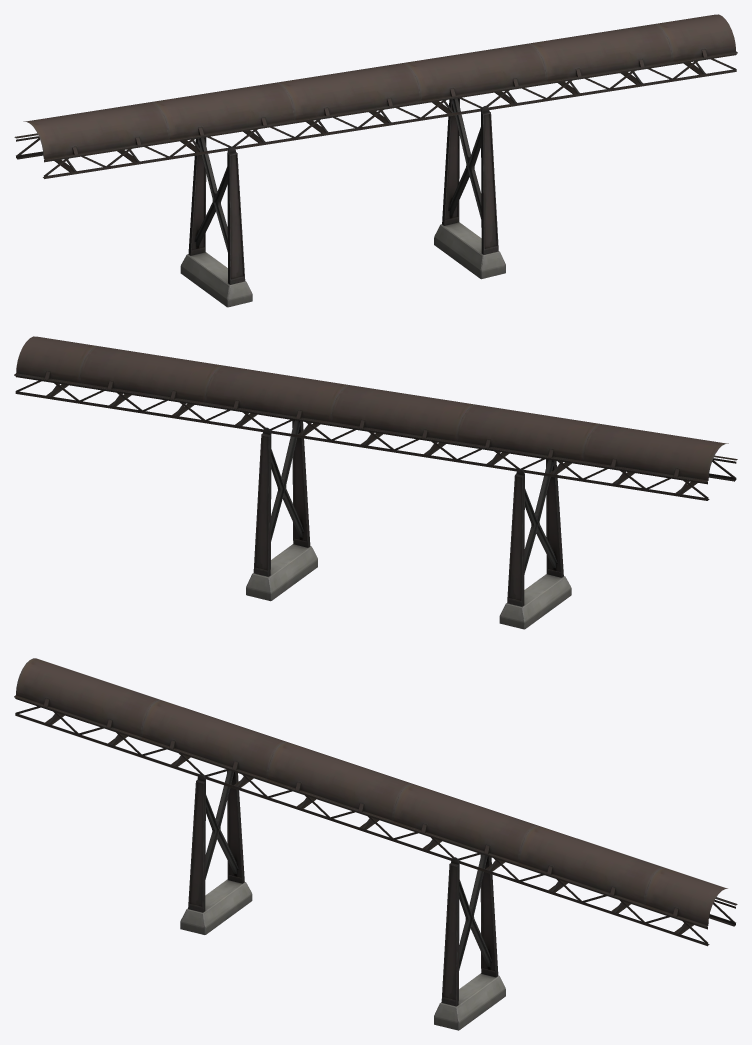
3 views of the same model, one above another, from view 1: azimuth 30°, elevation 25°; view 2: azimuth 150°, elevation 25°; view 3: azimuth 330°, elevation 25° (orthographic).
Parts seen in each view (by area): view 1: body0_model0_lod0_mesh0, body0_model0_lod0_mesh1; view 2: body0_model0_lod0_mesh0, body0_model0_lod0_mesh1; view 3: body0_model0_lod0_mesh0, body0_model0_lod0_mesh1.
Part boxes in pixels (left/top/right/bottom): body0_model0_lod0_mesh0: left=14, top=14, right=737, bottom=178; body0_model0_lod0_mesh1: left=180, top=98, right=505, bottom=307; body0_model0_lod0_mesh0: left=14, top=336, right=737, bottom=500; body0_model0_lod0_mesh1: left=246, top=420, right=571, bottom=629; body0_model0_lod0_mesh0: left=14, top=658, right=737, bottom=946; body0_model0_lod0_mesh1: left=180, top=770, right=505, bottom=1030.
Size of the model in its own units: 1409 by 472 by 167.
Materials: 2 (2 with a texture image).
